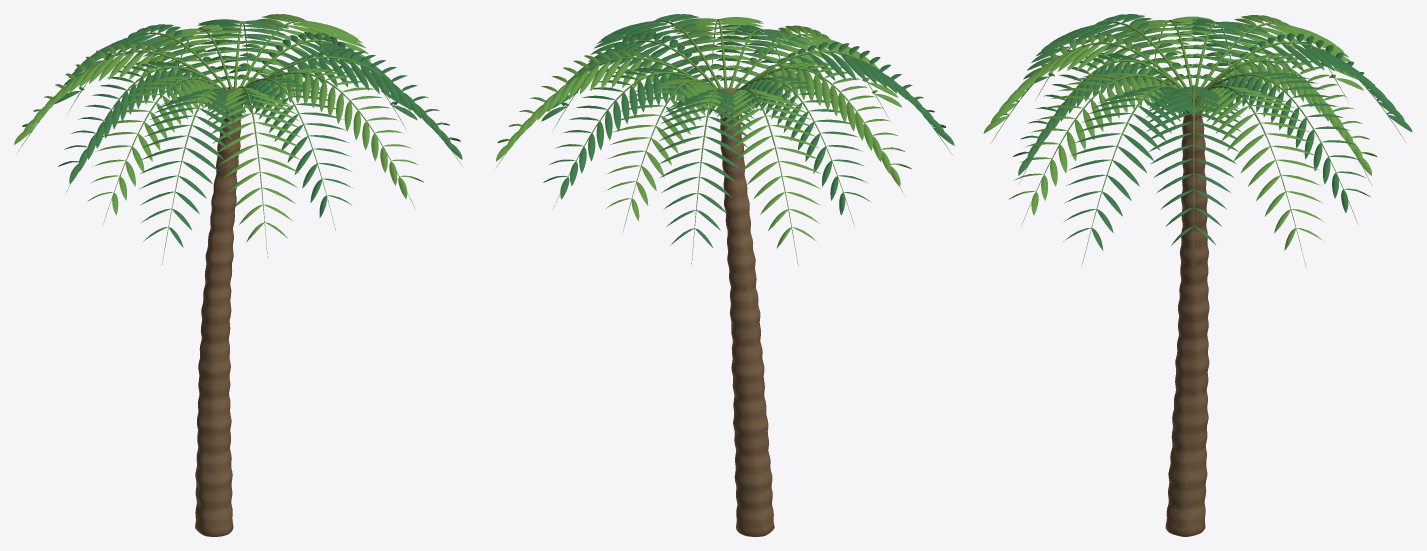
File: Palm_tree_LOD1.glb
3 renders of one model, left to right at view 1: azimuth 30°, elevation 25°; view 2: azimuth 150°, elevation 25°; view 3: azimuth 270°, elevation 25°, orthographic. The views are drawn at different scales.
Visible parts, largest first — view 1: Palm_tree_GameMesh; view 2: Palm_tree_GameMesh; view 3: Palm_tree_GameMesh.
Part boxes in pixels (x1,y1,x2,y2): Palm_tree_GameMesh: (14,14,462,536); Palm_tree_GameMesh: (496,14,954,536); Palm_tree_GameMesh: (983,14,1412,536).
Bounding box in the file's own units: 3.17 × 4.09 × 3.28.
